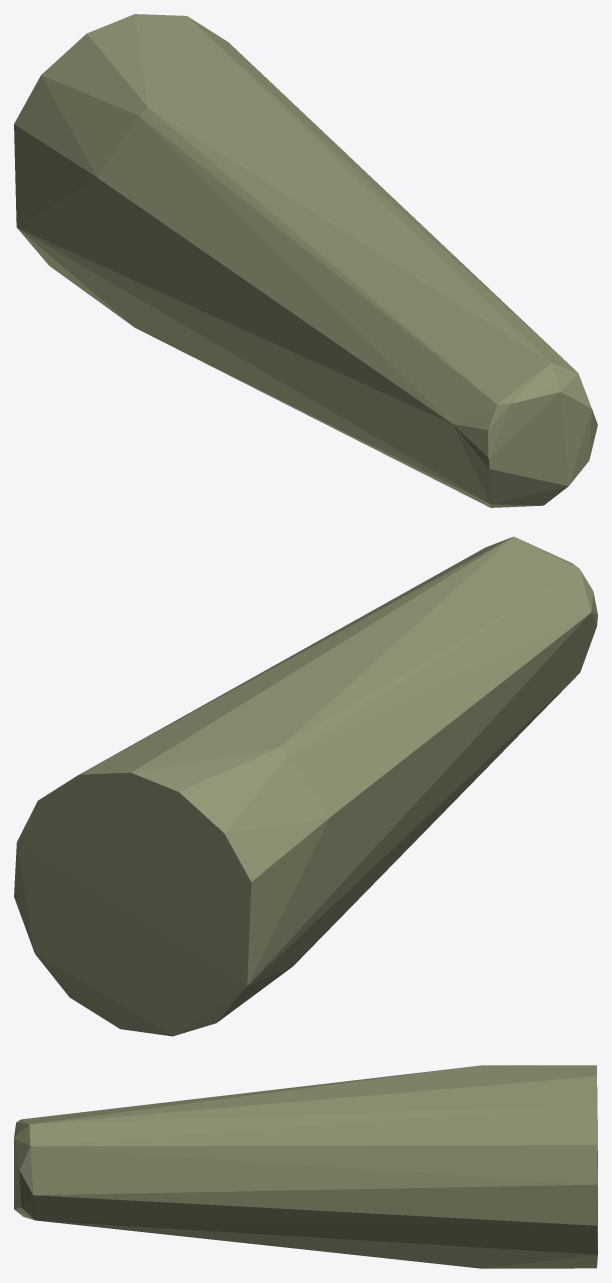
Rendered from factory_bolt_m04_tight.glb.
3 views of the same model, one above another, from view 1: azimuth 30°, elevation 25°; view 2: azimuth 150°, elevation 25°; view 3: azimuth 270°, elevation 25° (orthographic). The views are drawn at different scales.
Parts seen in each view (by area): view 1: geometry_0; view 2: geometry_0; view 3: geometry_0.
Part boxes in pixels (x1,y1,x2,y2): geometry_0: [14, 14, 597, 507]; geometry_0: [14, 536, 597, 1036]; geometry_0: [14, 1065, 597, 1268].
Size of the model in its own units: 0.1603 by 0.1672 by 0.48.
